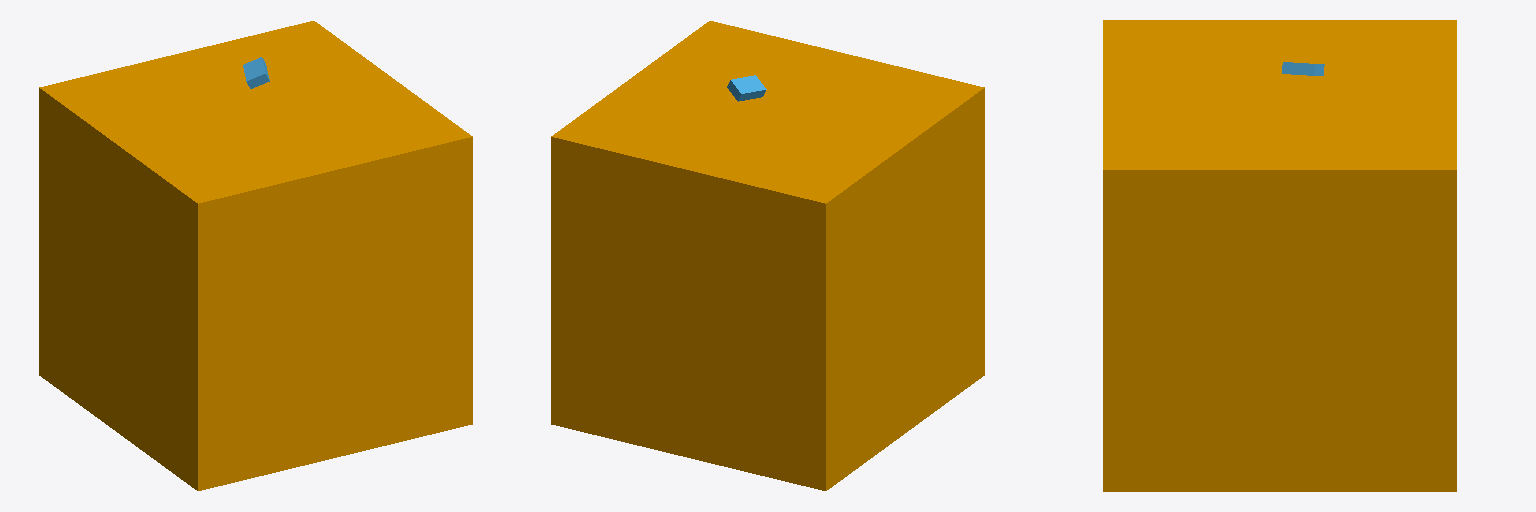
robot.urdf — Cube:
<?xml version="1.0" encoding="utf-8"?>
<robot name="Cube">
  <link name="base_link">
    <visual>
      <origin rpy="0 0 0" xyz="0 0 0"/>
      <geometry>
        <mesh filename="package://meshes/cube.stl"/>
      </geometry>
    </visual>
    <collision>
      <origin rpy="0 0 0" xyz="0 0 0"/>
      <geometry>
        <mesh filename="package://meshes/cube.stl"/>
      </geometry>
    </collision>
  </link>
  <joint name="joint_1" type="prismatic">
    <origin rpy="5 2 3" xyz="10 20 30"/>
    <parent link="base_link" />
    <child link="first_link" />
    <axis xyz="0 1 0" />
    <dynamics damping="10" friction="5" />
    <limit lower="5" upper="10" effort="6" velocity="4" />   
  </joint>
  <link name="first_link">
      <inertial>
        <origin rpy="1 1 1" xyz="1 1 1"/>
        <mass value="1"/>
        <inertia ixx="100"  ixy="0"  ixz="0" iyy="100" iyz="0" izz="100" />
       </inertial>
      <visual>
        <origin rpy="0 0 0" xyz="0 0 0"/>
        <geometry>
          <box size="1 2 3" />
        </geometry>
      </visual>
      <collision>
        <origin rpy="0 0 0" xyz="0 0 0"/>
        <geometry>
          <mesh filename="package://meshes/cube.stl"/>
        </geometry>
      </collision>
    </link>
</robot>

--- What the picture shows (computed from the rendered views, not written in the file) ---
Views: 3 orthographic renders of the robot side by side, from view 1: azimuth 30°, elevation 25°; view 2: azimuth 150°, elevation 25°; view 3: azimuth 270°, elevation 25°.
Model Cube with 2 links and 1 joints (1 prismatic), rooted at base_link, posed joints at zero except 1 at the middle of their limits (joint_1 = 7.5).
Visible links, largest first — view 1: base_link, first_link; view 2: base_link, first_link; view 3: base_link.
Link boxes in pixels (left/top/right/bottom): base_link: left=39, top=21, right=472, bottom=490; first_link: left=243, top=57, right=269, bottom=88; base_link: left=551, top=21, right=984, bottom=490; first_link: left=727, top=75, right=766, bottom=101; base_link: left=1103, top=20, right=1456, bottom=491.
Size in the robot's own frame: 30 by 30 by 34.02 metres.
1 mesh visuals loaded from 1 distinct referenced files (1 binary STL).